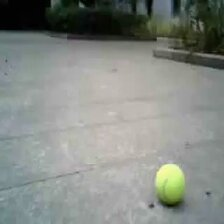tennis: (155, 164, 185, 203)
